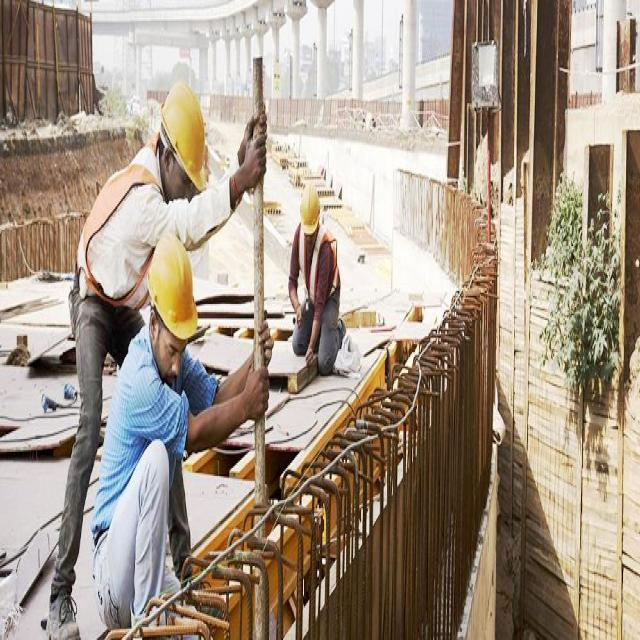Reflective-Jacket: (74, 141, 161, 304), (294, 224, 340, 331)
Safety-Helmet: (159, 68, 209, 194), (147, 227, 199, 344), (298, 175, 321, 238)
